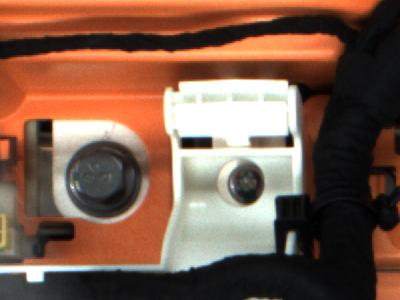nut_b: (55, 128, 162, 229)
